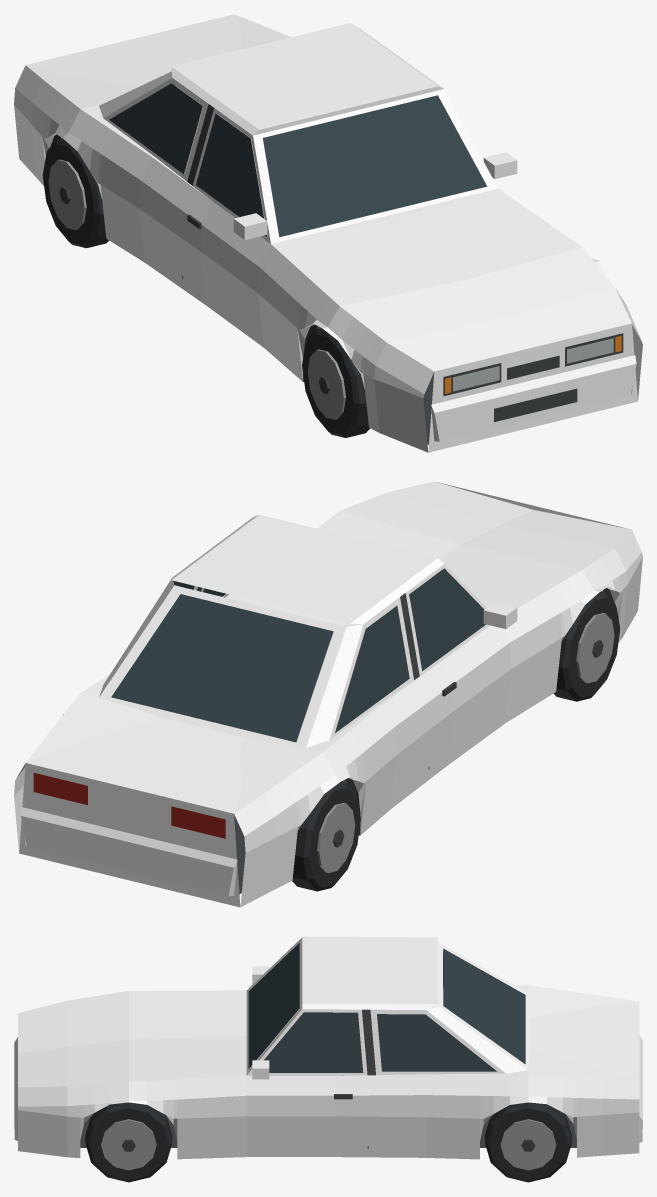
The model's file is hayase_enju_s.glb.
3 renders of one model, top to bottom at view 1: azimuth 30°, elevation 25°; view 2: azimuth 150°, elevation 25°; view 3: azimuth 270°, elevation 25°, orthographic. The views are drawn at different scales.
Visible parts, largest first — view 1: hayase_enju_s; view 2: hayase_enju_s; view 3: hayase_enju_s.
Boxes of the visible parts, <box> form: hayase_enju_s: <box>14,14,642,452</box>; hayase_enju_s: <box>14,481,642,907</box>; hayase_enju_s: <box>14,936,642,1182</box>.
Bounding box in the file's own units: 1.72 × 1.26 × 4.39.
Materials: 8 (1 with a texture image).
